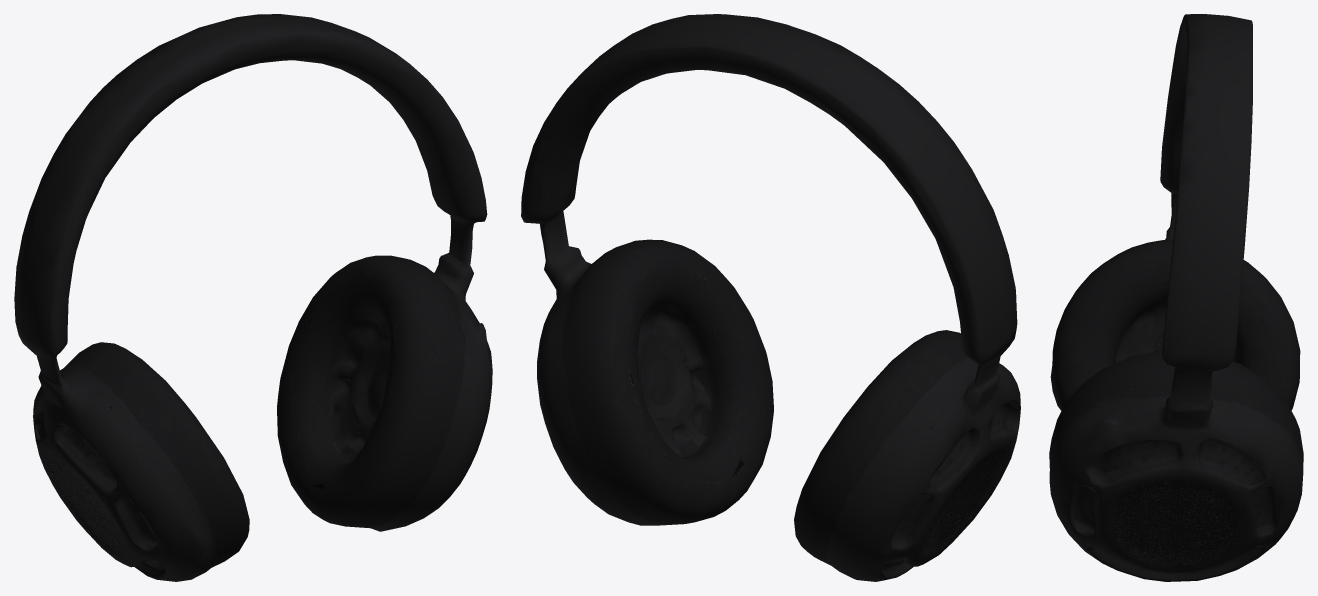
Rendered from fone_preto.glb.
3 renders of one model, left to right at view 1: azimuth 30°, elevation 25°; view 2: azimuth 150°, elevation 25°; view 3: azimuth 270°, elevation 25°, orthographic. The views are drawn at different scales.
Parts seen in each view (by area): view 1: Prop_fone; view 2: Prop_fone; view 3: Prop_fone.
Part boxes in pixels (left/top/right/bottom): Prop_fone: left=14, top=14, right=492, bottom=581; Prop_fone: left=521, top=14, right=1020, bottom=581; Prop_fone: left=1049, top=14, right=1303, bottom=581.
Bounding box in the file's own units: 0.184 × 0.2 × 0.0942.
Materials: 1 (1 with a texture image).
